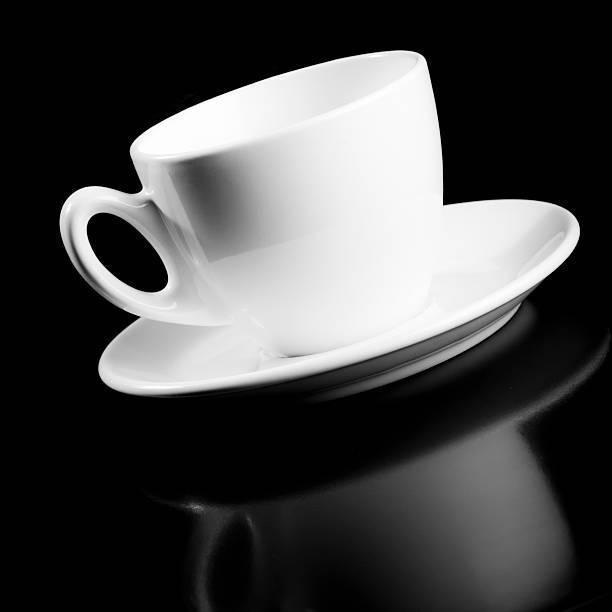cup-handle: (58, 47, 450, 361)
